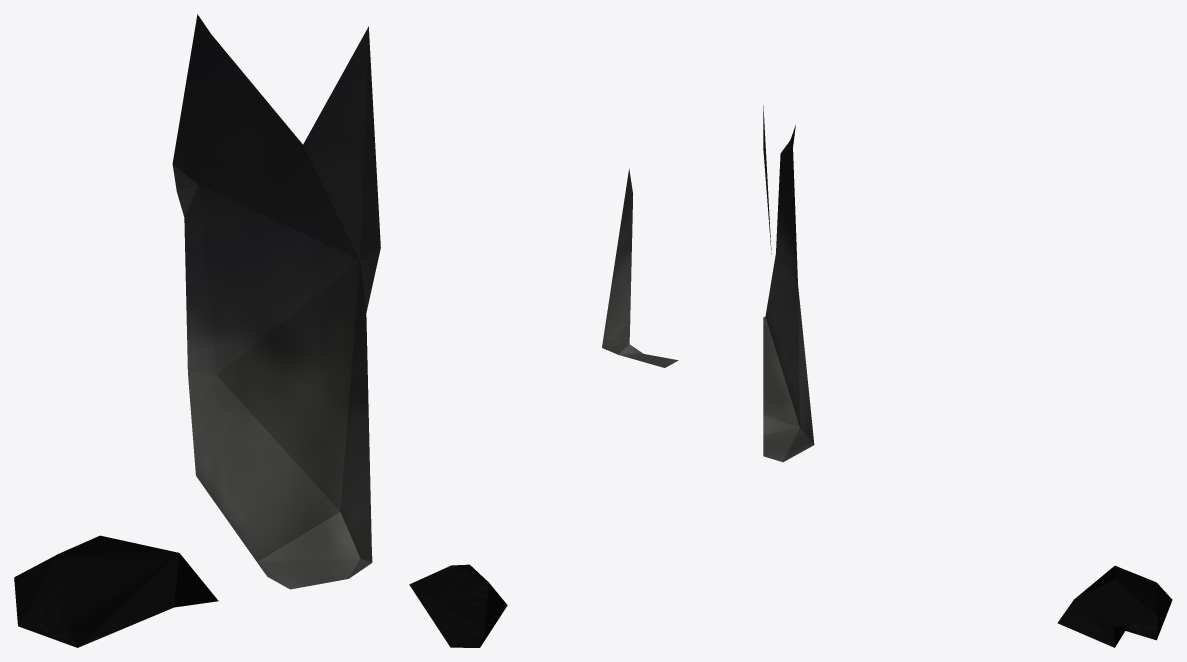
3 views of the same model, side by side, from view 1: azimuth 30°, elevation 25°; view 2: azimuth 150°, elevation 25°; view 3: azimuth 270°, elevation 25° (orthographic). The views are drawn at different scales.
Bounding box in the file's own units: 0.0762 × 0.2435 × 0.1579.
1 material, 1 textured.
